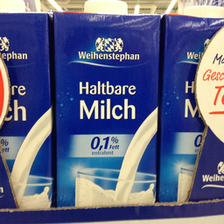milk: (53, 1, 162, 206), (161, 4, 222, 204), (1, 3, 54, 210)
